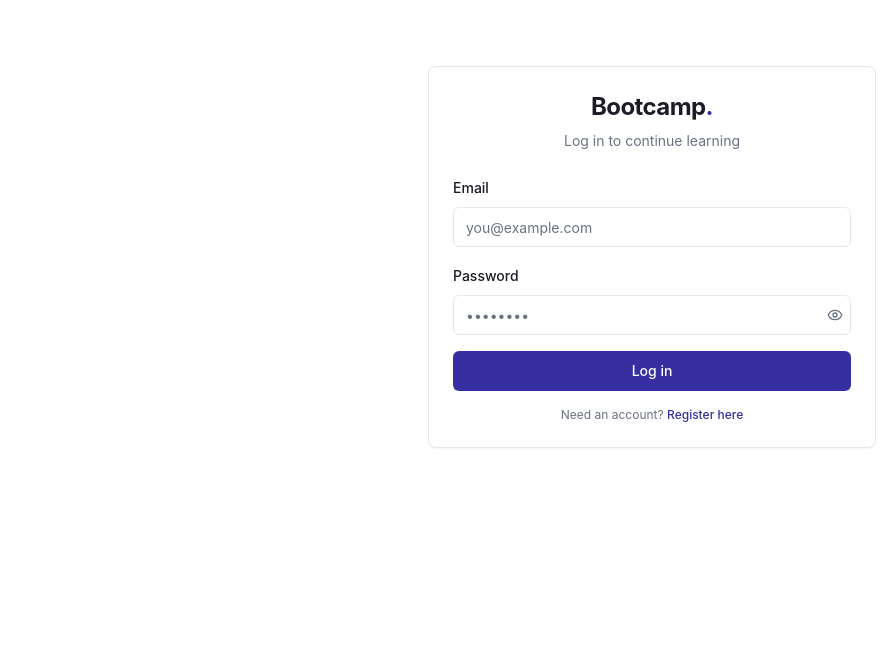
Test: Login › announces an authentication failure without navigating
The width and height of the screenshot is (893, 657).
Type "student@example.com" into the field labelled "Email" at {"x": 652, "y": 227}, box [453,207,851,247]
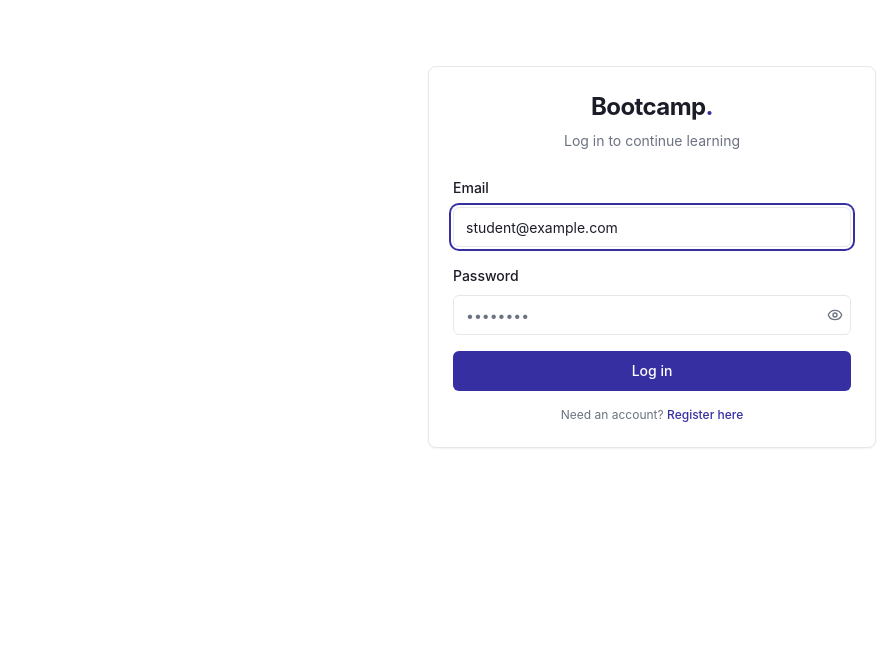
Type "Password1" into the password field labelled "Password" at {"x": 652, "y": 315}, box [453,295,851,335]
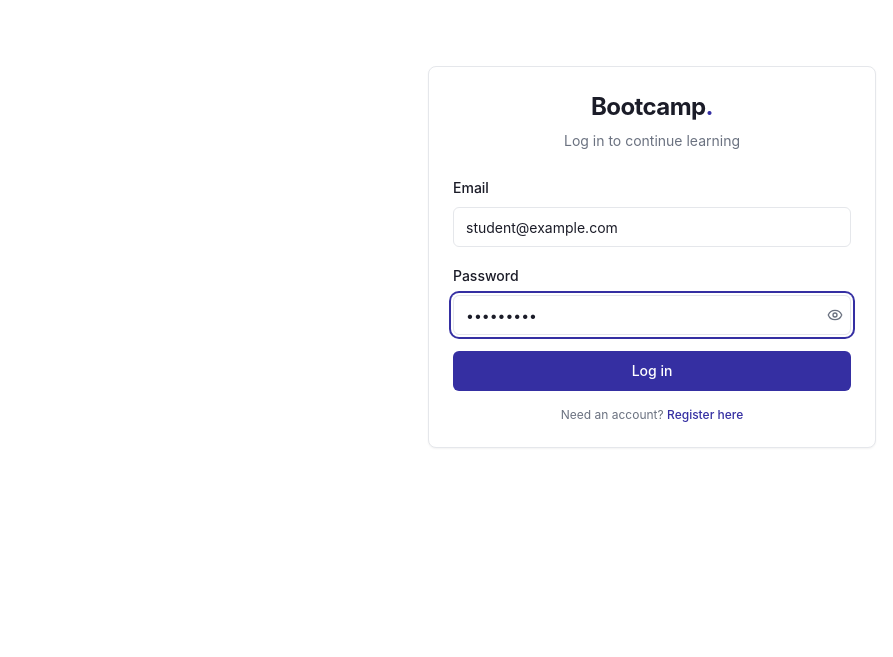
Click the button "Log in" at {"x": 652, "y": 371}, box [453,351,851,391]
(page scrolled)
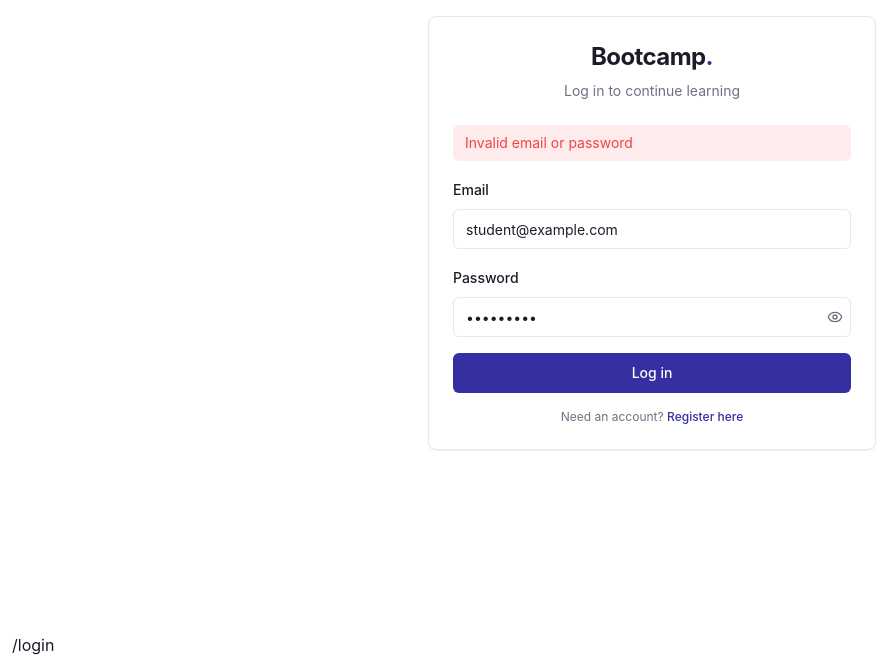
Expected: the text with test id "location" reads "/login", [12,635,54,655]
Now the message reads "Invalid email or password", box [465,134,633,151]
